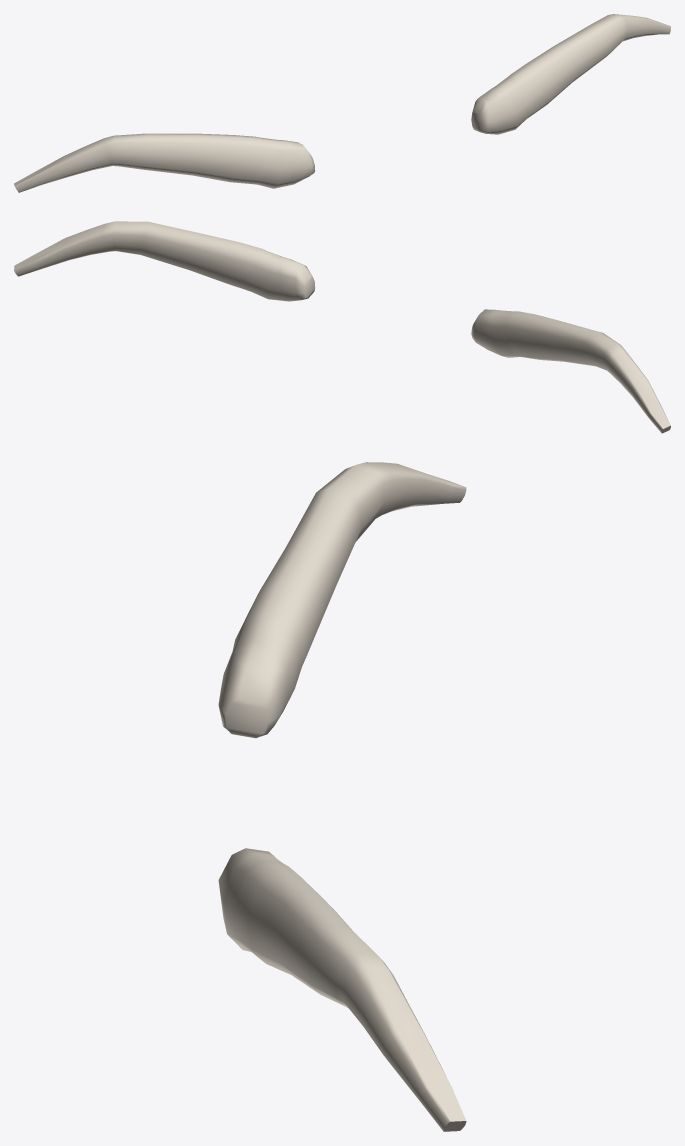
Rendered from Eyebrows_11_07.fbx.
3 renders of one model, top to bottom at view 1: azimuth 30°, elevation 25°; view 2: azimuth 150°, elevation 25°; view 3: azimuth 270°, elevation 25°, orthographic. The views are drawn at different scales.
Parts seen in each view (by area): view 1: Eyebrows_11_07; view 2: Eyebrows_11_07; view 3: Eyebrows_11_07.
Part boxes in pixels (bbox=[...]): Eyebrows_11_07: bbox=[14, 14, 670, 192]; Eyebrows_11_07: bbox=[14, 221, 670, 433]; Eyebrows_11_07: bbox=[218, 462, 466, 1131].
Bounding box in the file's own units: 19.56 × 1.82 × 3.2.
